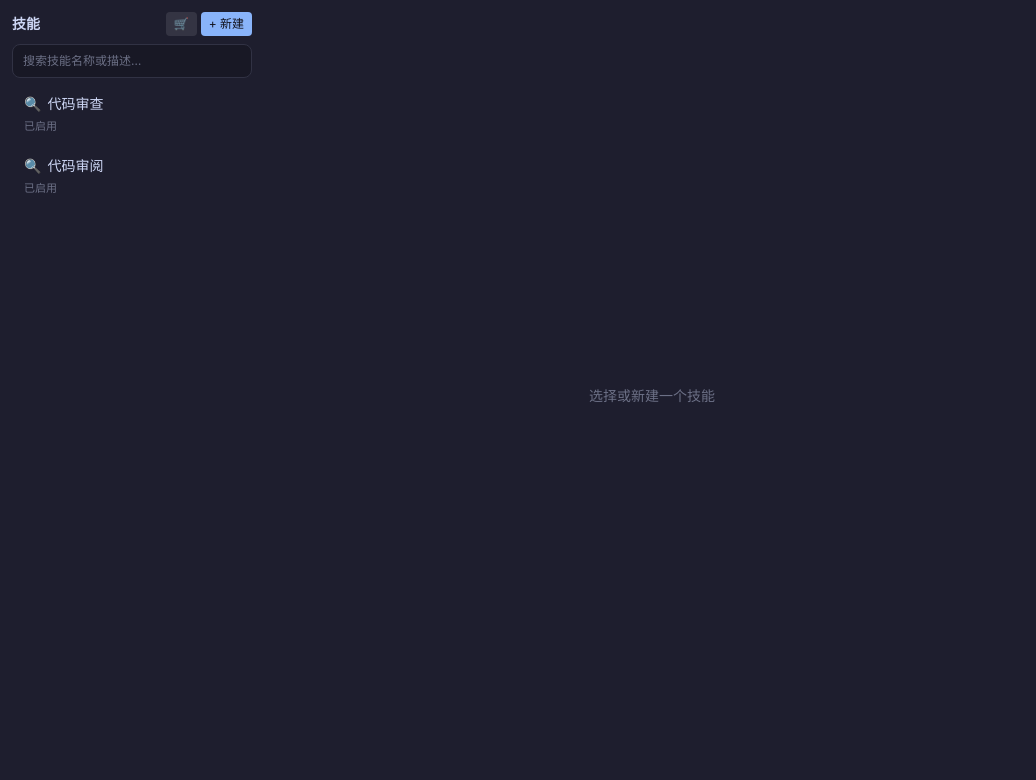
描述质量上屏 › 两条高度相似的描述互相指认
Click the text "代码审查".
click(76, 104)  # box x1=48 y1=94 x2=104 y2=114
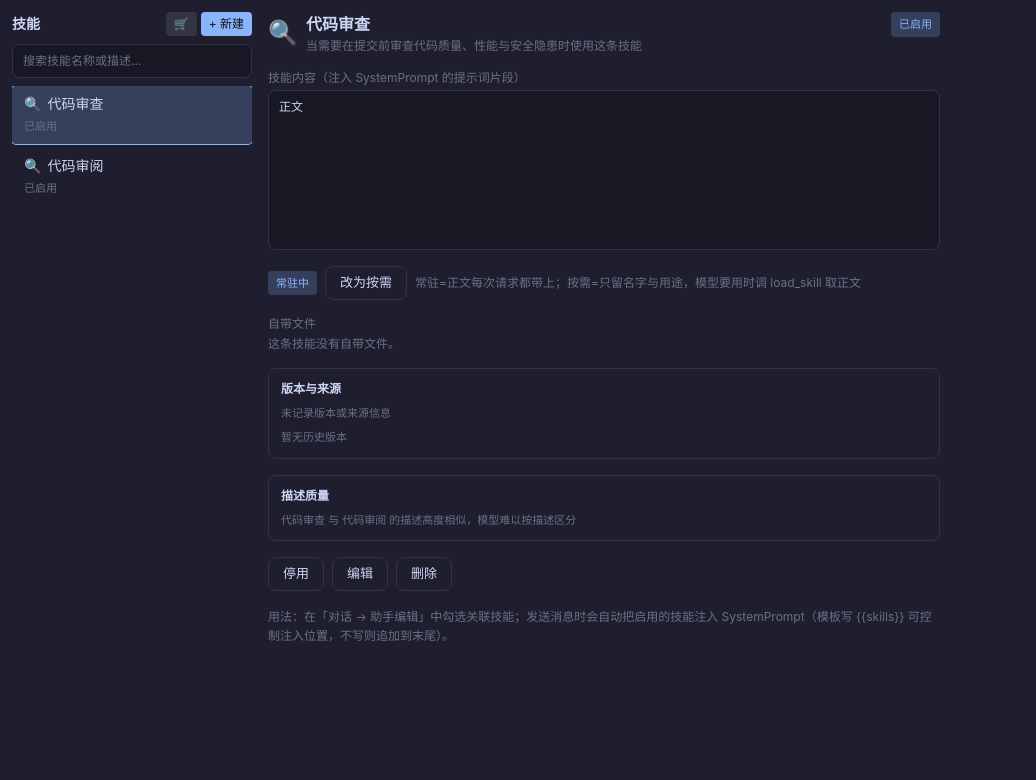
Expected: the element with test id "skill-quality-panel" is shown, x1=268 y1=474 x2=940 y2=541
